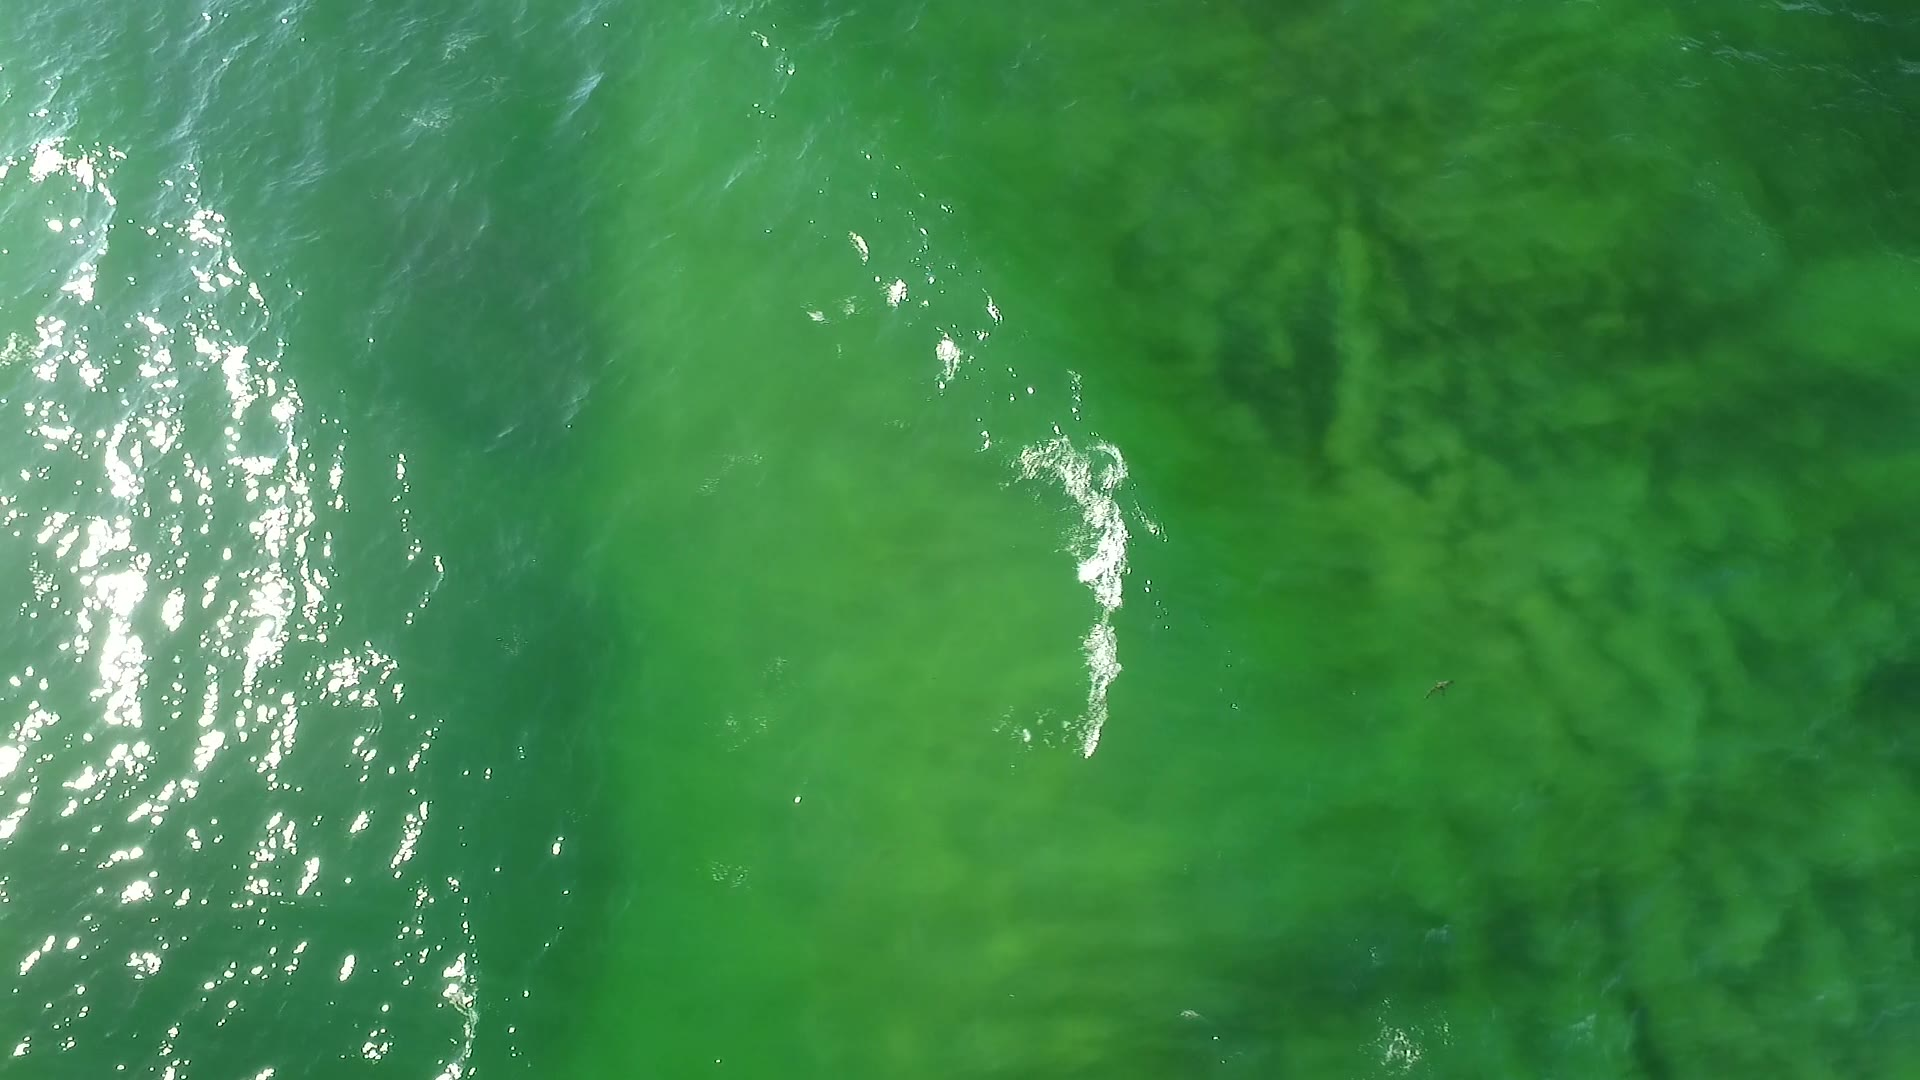shark: (1420, 676, 1458, 702)
